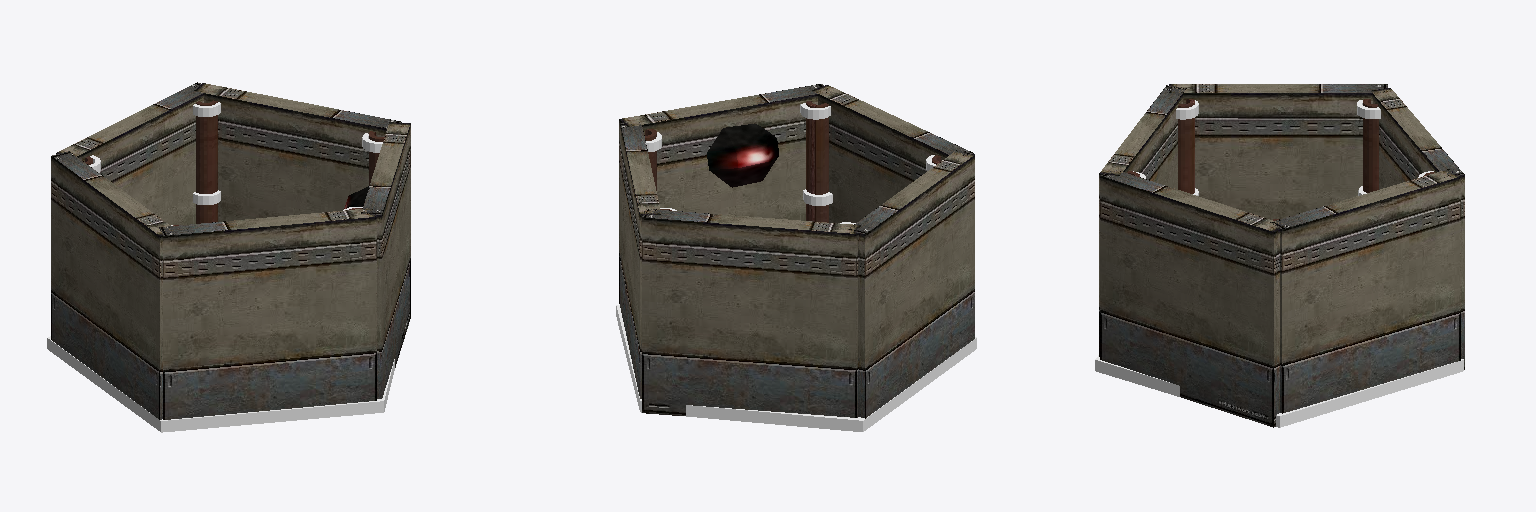
3 views of the same model, side by side, from view 1: azimuth 30°, elevation 25°; view 2: azimuth 150°, elevation 25°; view 3: azimuth 270°, elevation 25° (orthographic).
Parts seen in each view (by area): view 1: Box008, Box004, Box002, Box003, Box001, Gengon001, Tube001; view 2: Box003, Box004, Box001, Box008, Box002, Gengon001, ChamferBox001, Tube006; view 3: Box001, Box002, Box004, Box003, Box008, Gengon001, Tube005, Tube004.
Boxes of the visible parts, x1,y1,x2,y2 form: Box008: [159, 208, 376, 419]; Box004: [51, 151, 174, 419]; Box002: [194, 83, 401, 221]; Box003: [56, 82, 208, 225]; Box001: [361, 122, 410, 398]; Gengon001: [47, 336, 394, 432]; Tube001: [196, 100, 217, 223]; Box003: [642, 209, 860, 417]; Box004: [848, 150, 974, 418]; Box001: [619, 84, 826, 303]; Box008: [812, 85, 973, 222]; Box002: [620, 122, 660, 398]; Gengon001: [616, 304, 976, 431]; ChamferBox001: [707, 124, 778, 187]; Tube006: [806, 101, 828, 222]; Box001: [1100, 170, 1283, 427]; Box002: [1270, 169, 1460, 413]; Box004: [1169, 84, 1387, 219]; Box003: [1371, 88, 1464, 369]; Box008: [1099, 85, 1186, 356]; Gengon001: [1095, 355, 1463, 427]; Tube005: [1178, 99, 1194, 193]; Tube004: [1363, 99, 1378, 192].
Bounding box in the file's own units: 126 × 77.35 × 132.
7 materials, 4 textured.